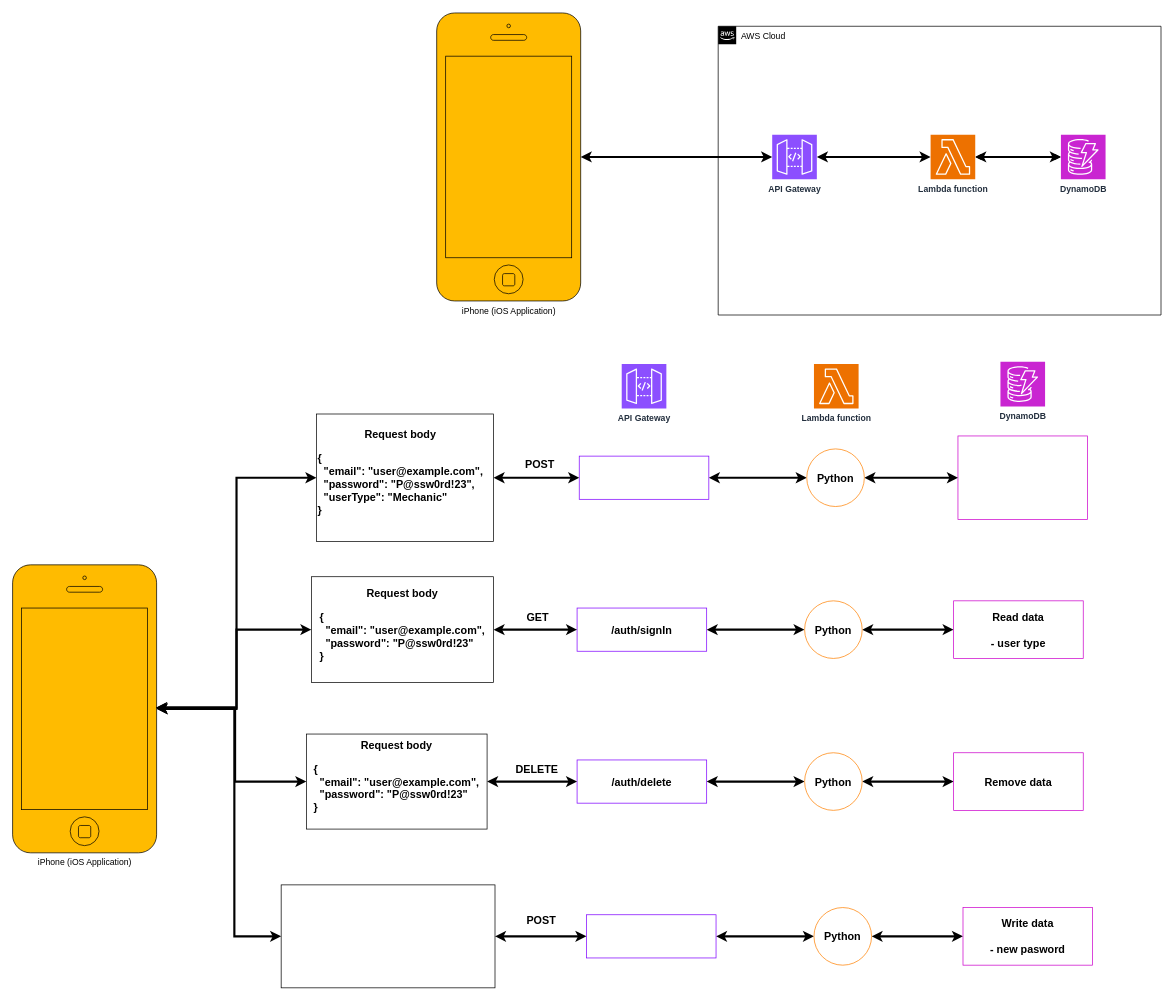
This 1174x1000 diagram has some shape labels left out. Each missing label, with the centre of its shape:
/auth/forgotPassword: (651,936)
/auth/signUp: (644,477)
Request body { "email": "user@example.com", "new_password": "N3wP@ssw0rd!45" }: (387,936)
Write data - email - password - user type: (1022,477)
